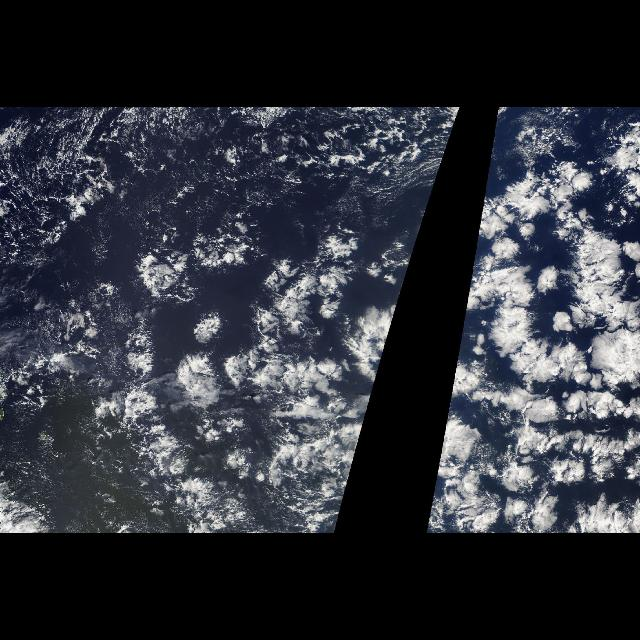Flower: (117, 209, 427, 533), (422, 157, 640, 533)
Gravel: (1, 107, 148, 237)
Sugar: (1, 107, 218, 225)
